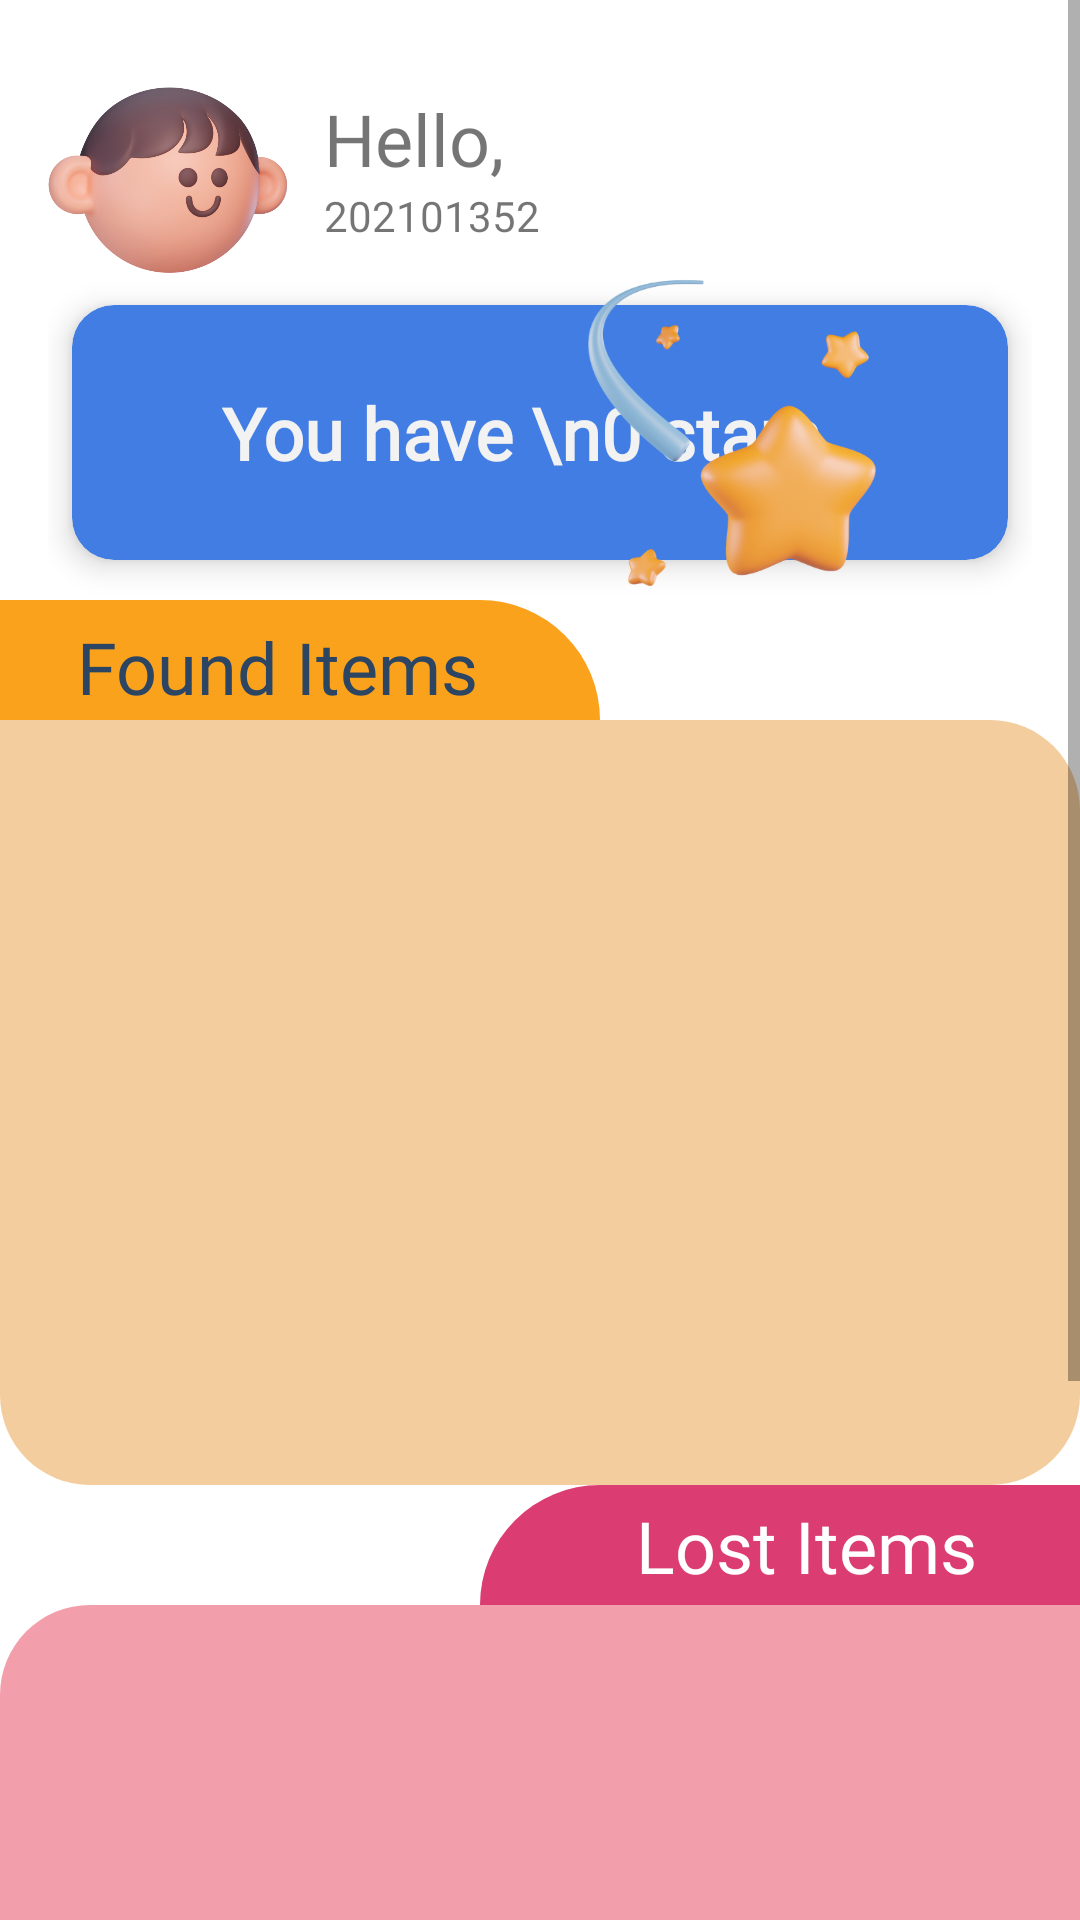

Icon bounding boxes for this 1080px x 1920px phone screenshot, format (x1, y1, x2, y2):
profile picture: (48, 87, 287, 273)
